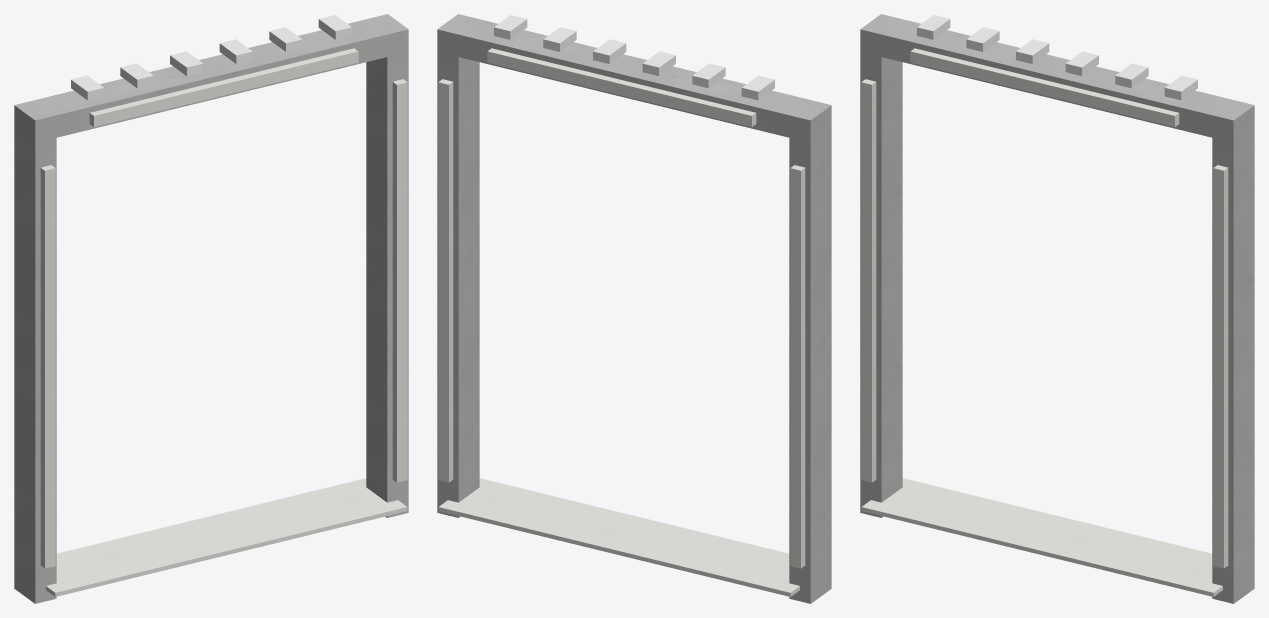
The model's file is jframe.gltf.
3 views of the same model, side by side, from view 1: azimuth 30°, elevation 25°; view 2: azimuth 150°, elevation 25°; view 3: azimuth 330°, elevation 25° (orthographic).
Parts seen in each view (by area): view 1: jx_jframe; view 2: jx_jframe; view 3: jx_jframe.
Part boxes in pixels (<box>): jx_jframe: <box>14,14,408,603</box>; jx_jframe: <box>437,14,831,603</box>; jx_jframe: <box>860,14,1254,603</box>.
Bounding box in the file's own units: 2.26 × 2.87 × 0.418.
3 materials, 3 textured.
